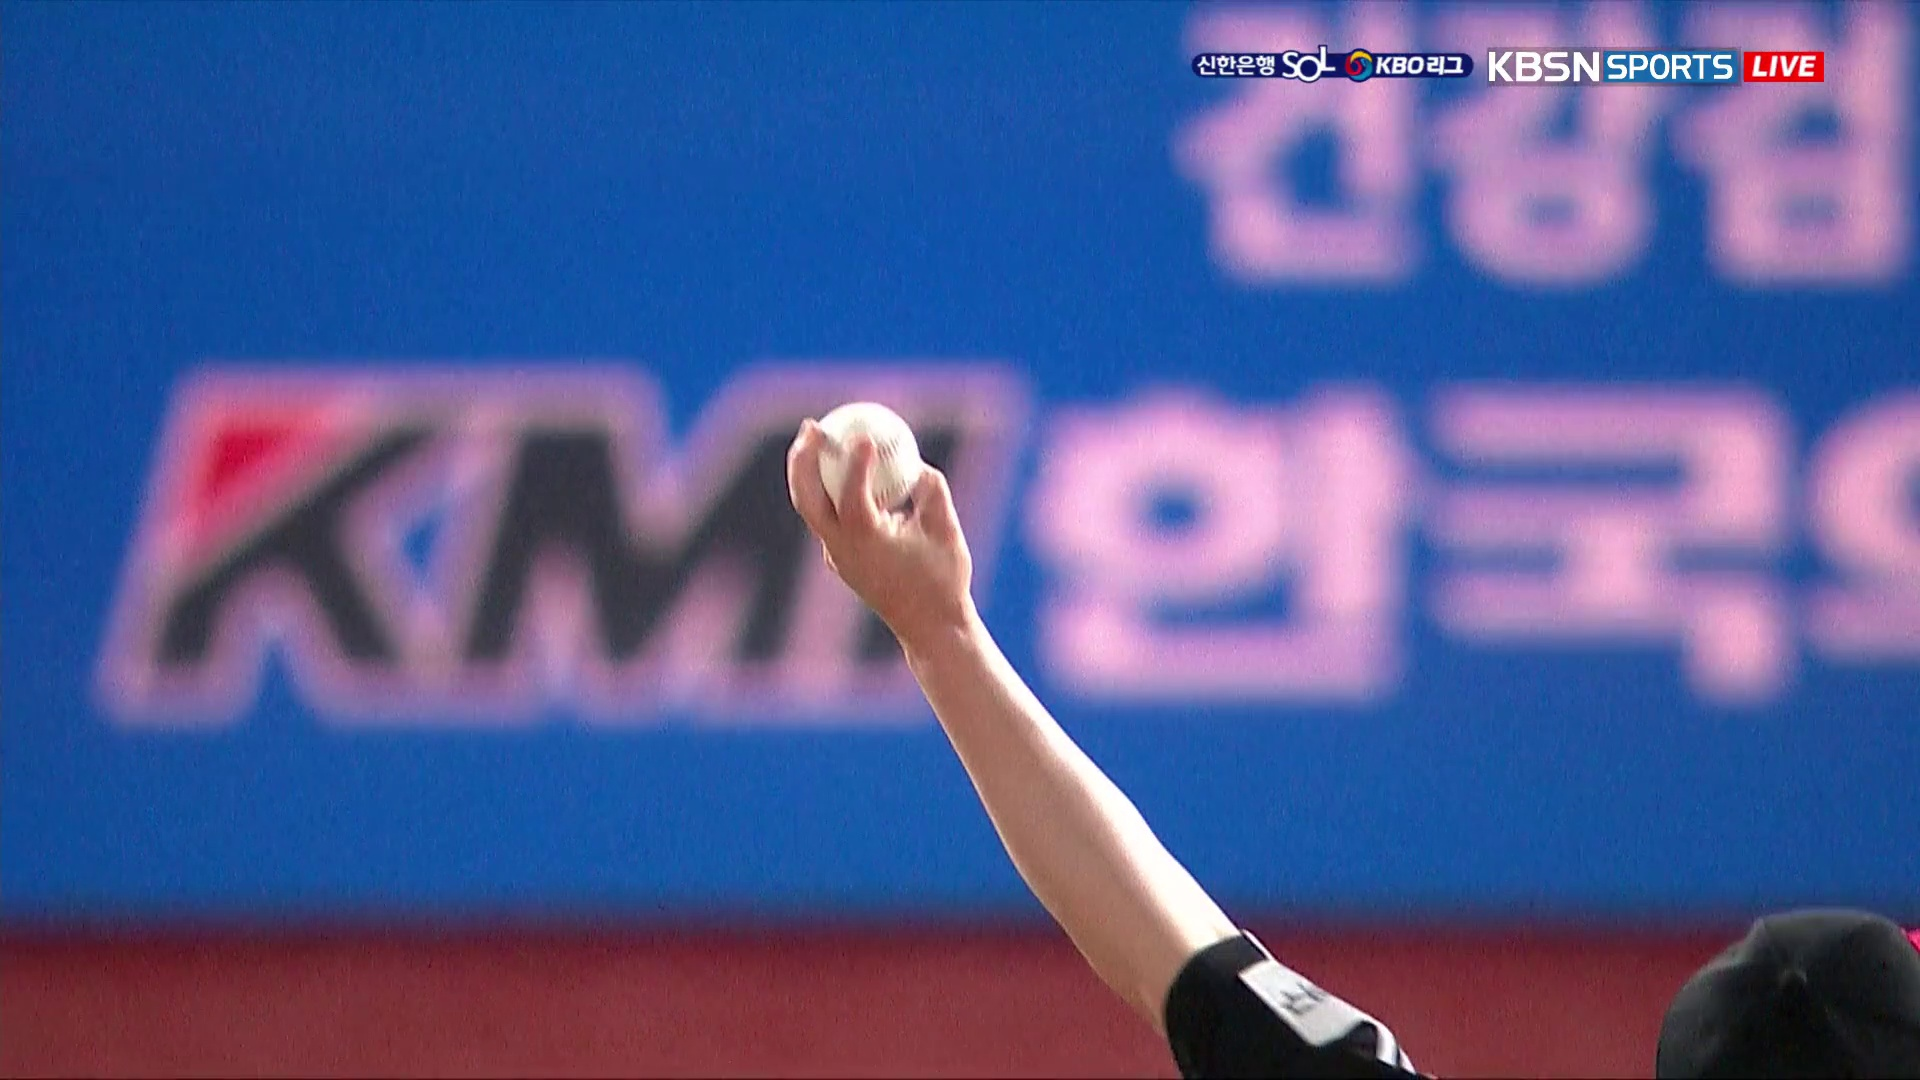zoomin_hand: (775, 392, 1266, 1062)
